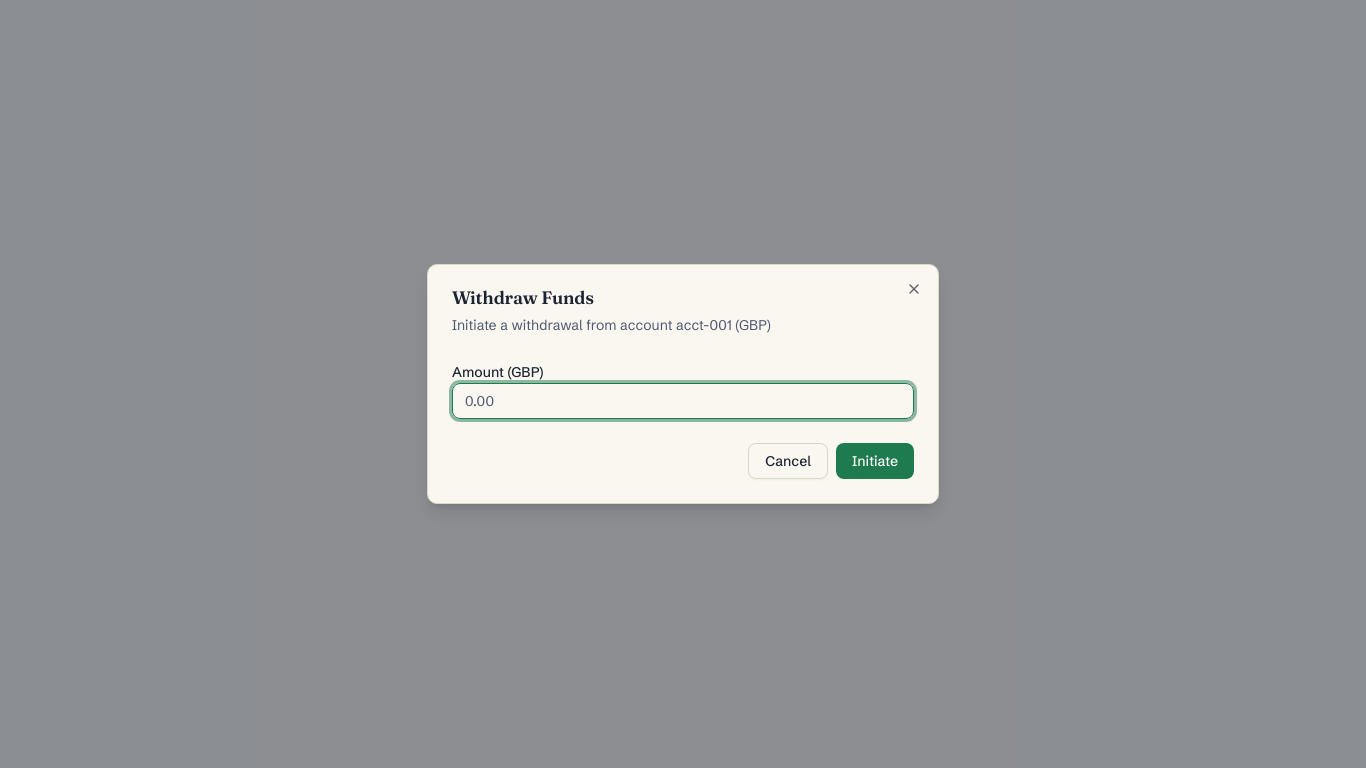
Test: WithdrawDialog - step 1 validation › shows error when amount is empty
This screenshot has width=1366, height=768.
Click the button "Initiate" at (875, 461), box [836,443,914,479]
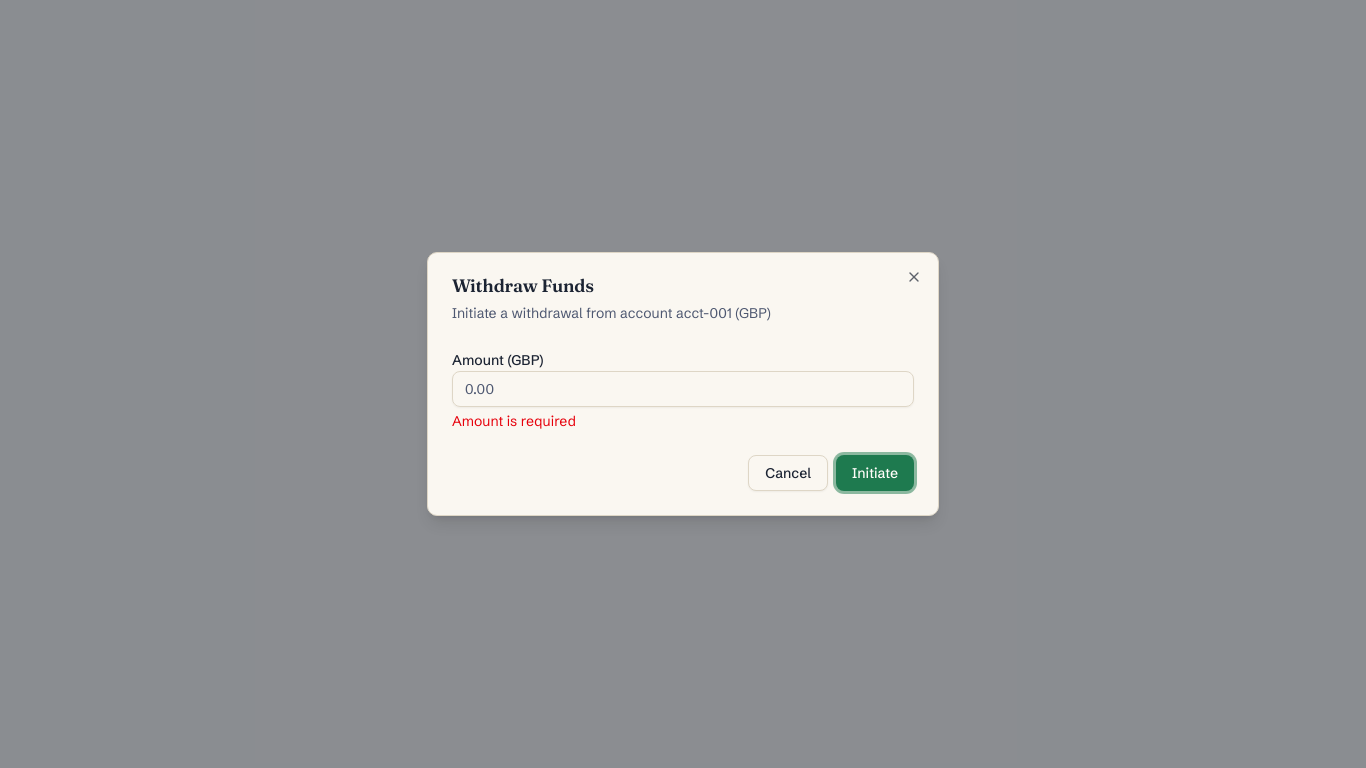
Now the text "Amount is required" is shown, box [452,412,576,430]
